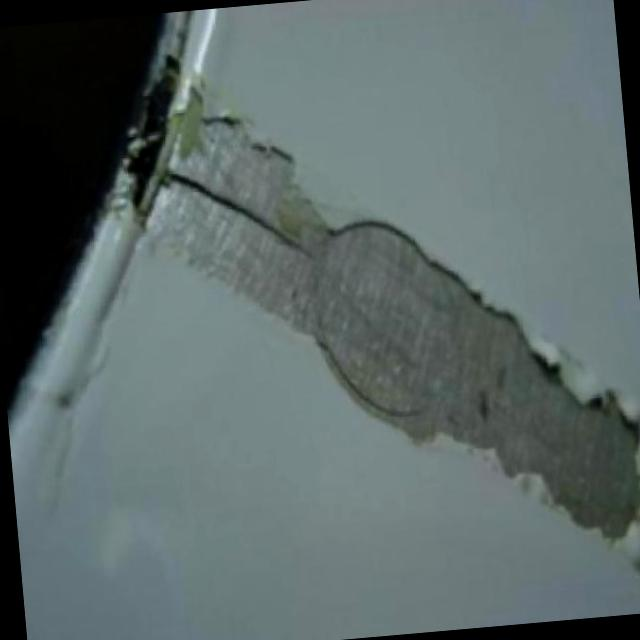crack: (170, 160, 250, 220), (256, 211, 316, 261)
